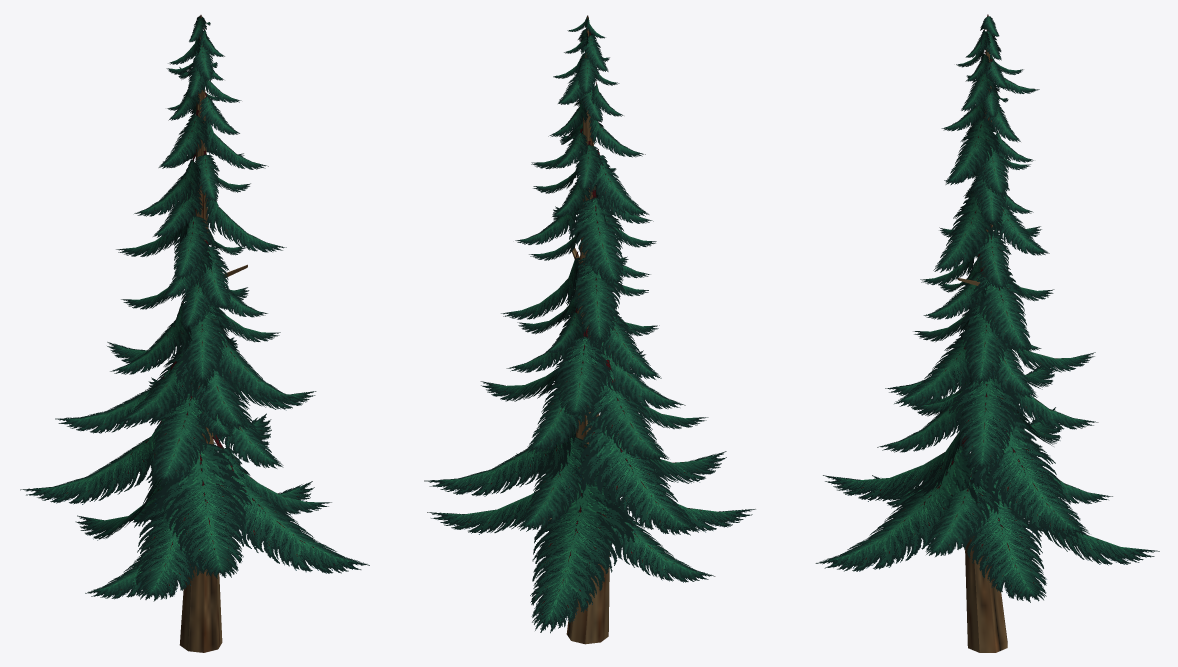
The model's file is Arvore3 1.fbx.
3 renders of one model, left to right at view 1: azimuth 30°, elevation 25°; view 2: azimuth 150°, elevation 25°; view 3: azimuth 270°, elevation 25°, orthographic.
Visible parts, largest first — view 1: polySurface77; view 2: polySurface77; view 3: polySurface77.
Boxes of the visible parts, x1,y1,x2,y2 form: polySurface77: [20, 15, 369, 652]; polySurface77: [424, 15, 755, 644]; polySurface77: [815, 14, 1159, 652].
Size of the model in its own units: 5.97 by 11.64 by 6.21.
Materials: 2 (2 with a texture image).
